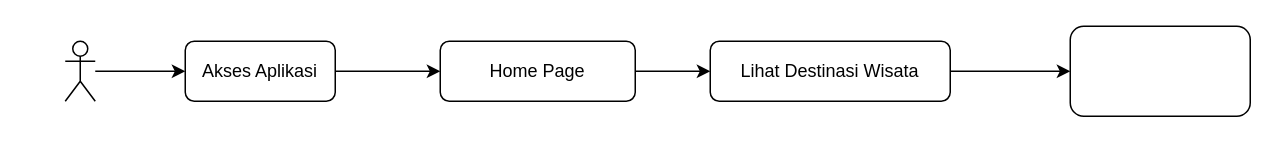
The diagram is 1277 pixels wide and 159 high, and some of its shapes have lost their labels. The box of each missing label's shape, as (x1, y1, x2, y2) in pixels:
Orang Wisata: (64, 40, 95, 101)
Pengguna Memilih Tempat Wisata: (1069, 25, 1250, 116)
